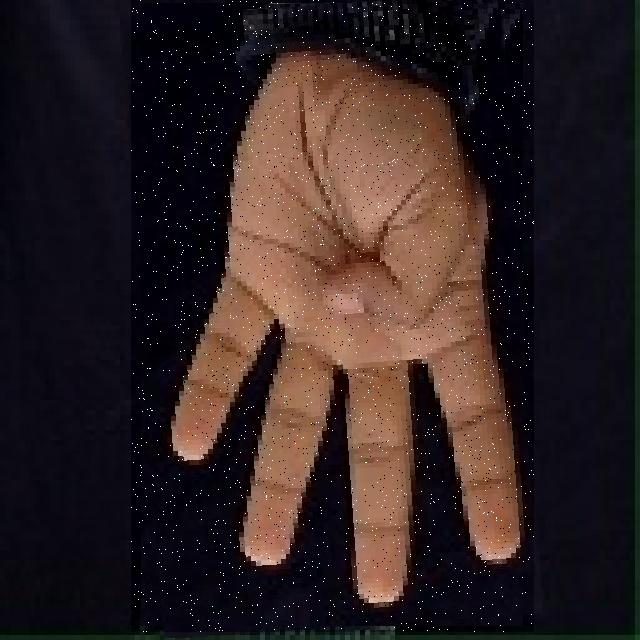Thanks: (131, 0, 534, 632)
